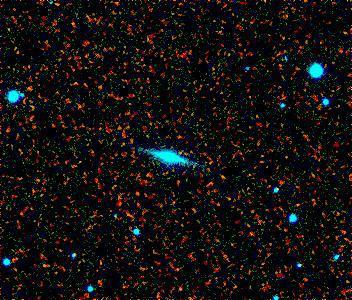star: (207, 161, 237, 191)
